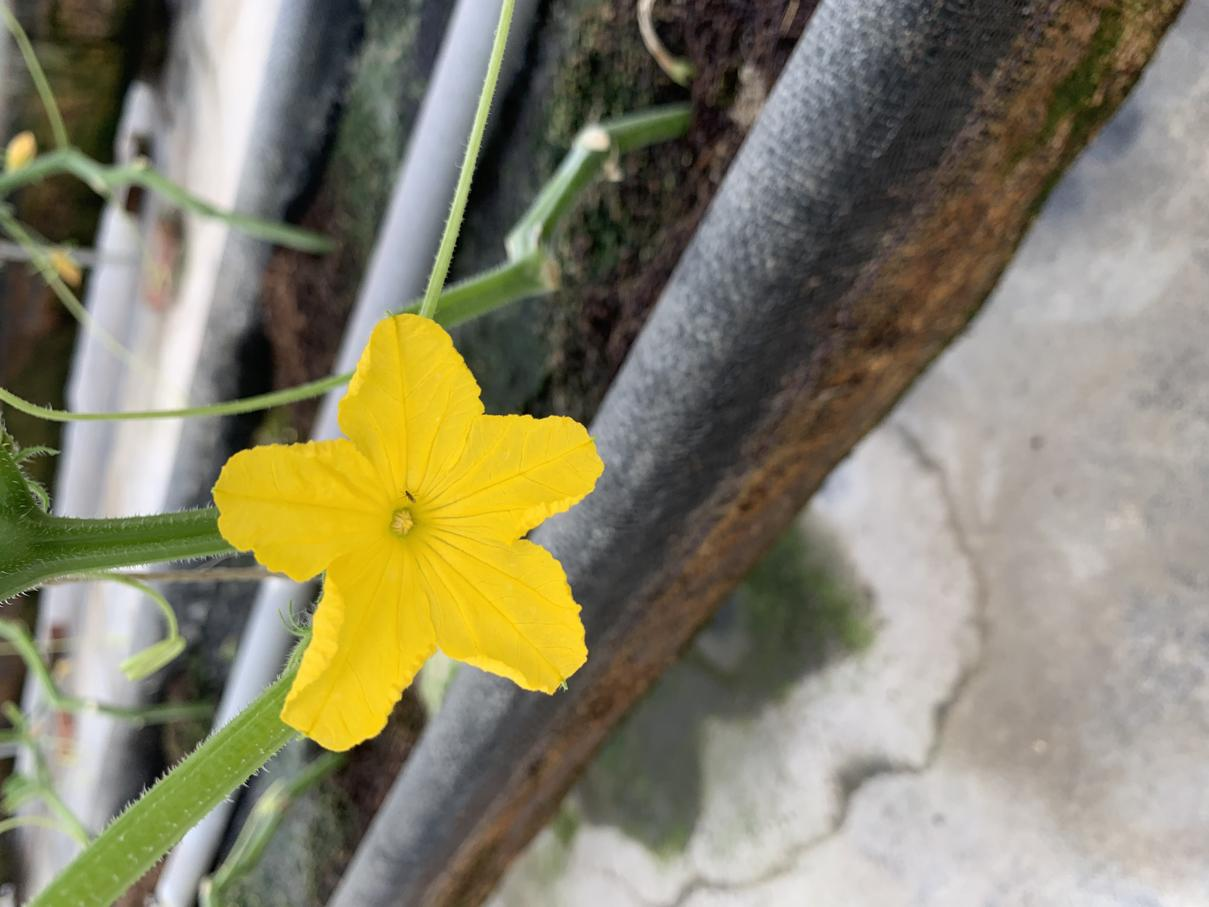flower: (199, 303, 658, 763)
